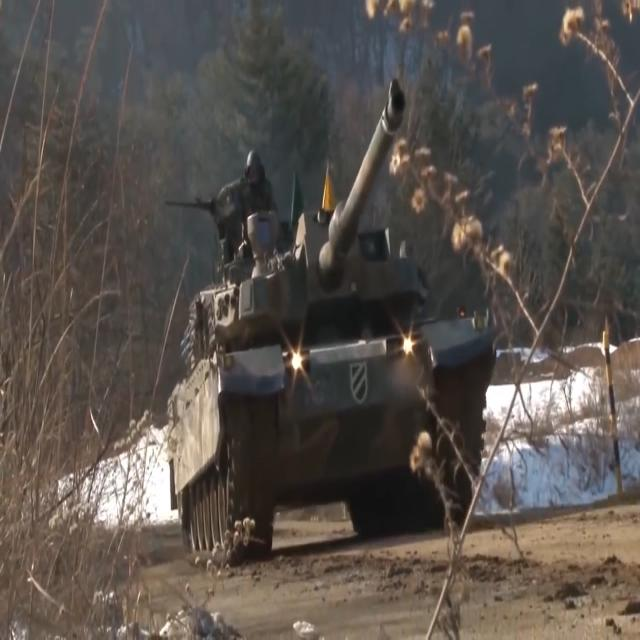korea tank: (171, 77, 497, 562)
